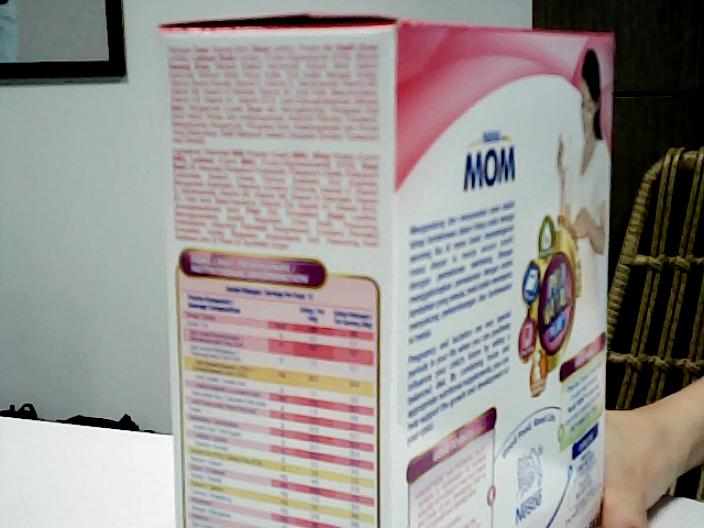MaternalMilkPowder_600-699g_Halal_NonHealthy: (173, 41, 603, 523)
